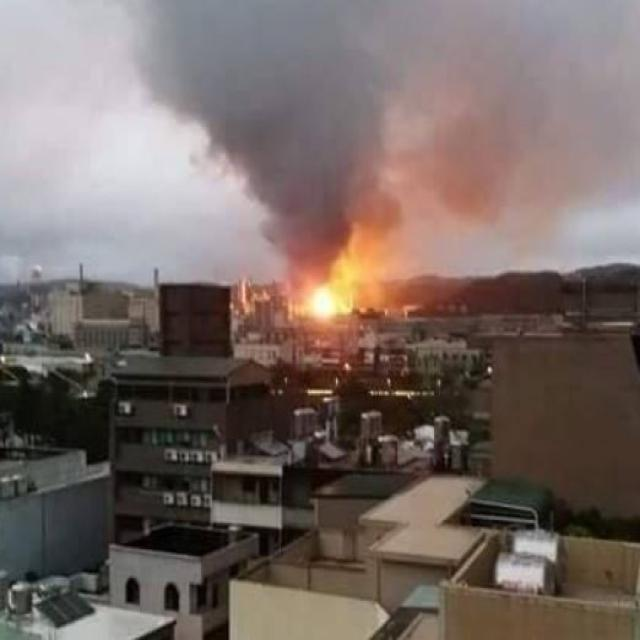Fire: (300, 284, 353, 326)
Smoke: (145, 11, 630, 244)
